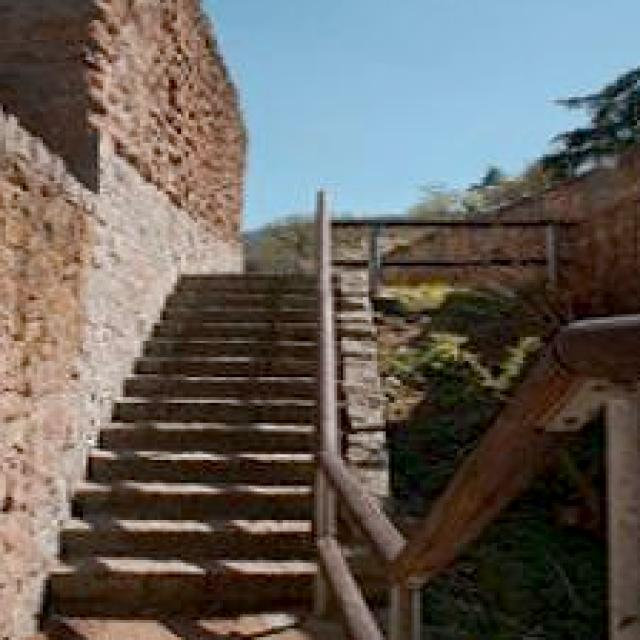upstair: (12, 361, 364, 610)
